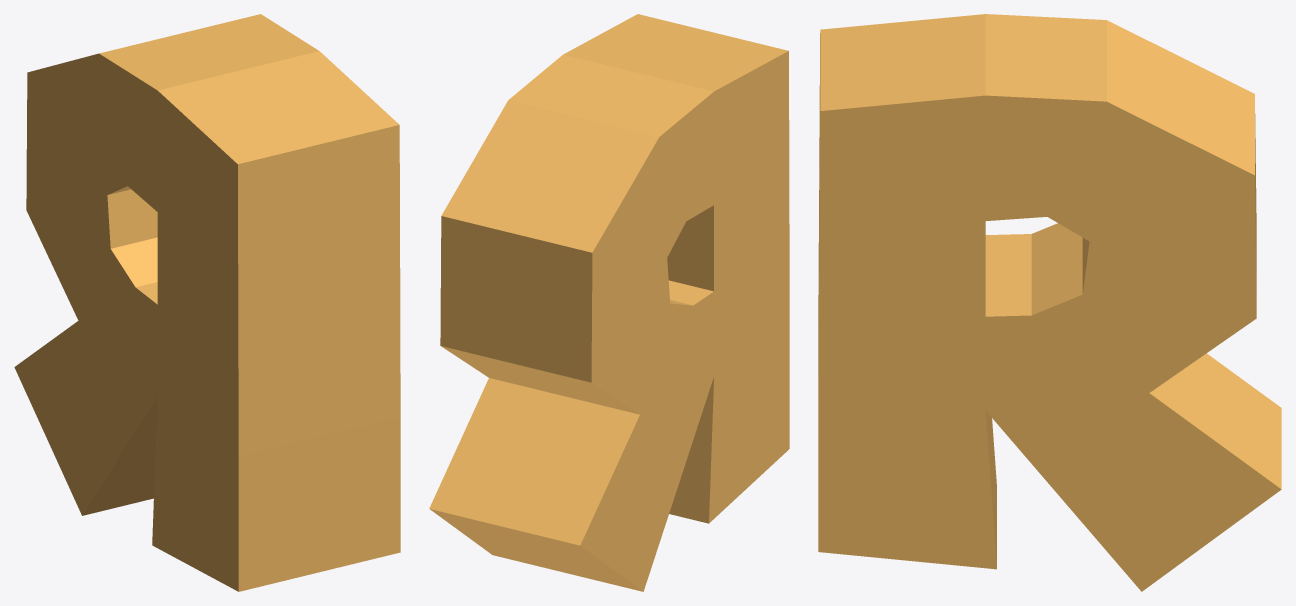
The model's file is LetterR.obj.
3 renders of one model, left to right at view 1: azimuth 30°, elevation 25°; view 2: azimuth 150°, elevation 25°; view 3: azimuth 270°, elevation 25°, orthographic. The views are drawn at different scales.
Visible parts, largest first — view 1: Cube.007; view 2: Cube.007; view 3: Cube.007.
Boxes of the visible parts, left/top/right/bottom form: Cube.007: left=14, top=14, right=400, bottom=591; Cube.007: left=429, top=14, right=789, bottom=591; Cube.007: left=818, top=14, right=1281, bottom=591.
Bounding box in the file's own units: 1.77 × 5.02 × 4.25.
Materials: 1 (1 with a texture image).
